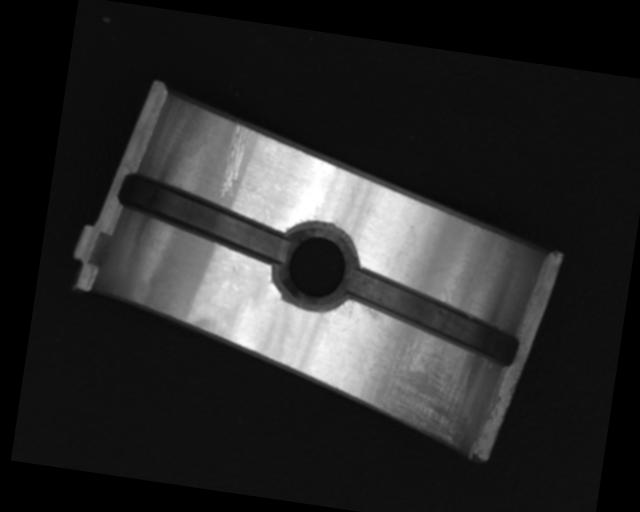gap: (337, 265, 526, 365), (111, 171, 299, 263)
hole: (266, 213, 365, 319)
nick: (220, 119, 248, 201)
scratch: (343, 305, 486, 449)
